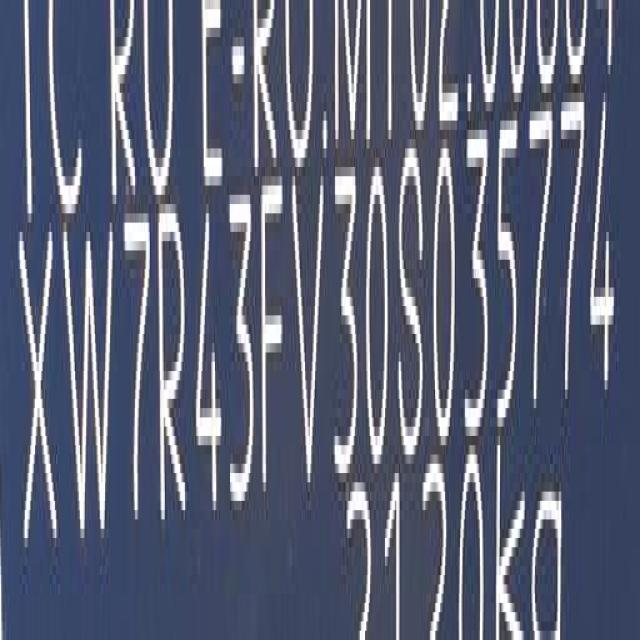0: (431, 134, 458, 460), (367, 148, 392, 462)
3: (227, 165, 257, 529), (331, 144, 361, 488), (464, 128, 487, 446)
4: (197, 202, 226, 530), (591, 103, 621, 402)
5: (497, 121, 520, 433)
7: (122, 196, 154, 529), (526, 93, 556, 433), (561, 100, 584, 416)
F: (258, 175, 285, 515)
R: (156, 199, 188, 533)
S: (393, 134, 426, 471)
V: (290, 154, 326, 518)
W: (66, 219, 117, 552)
X: (21, 229, 56, 570)
